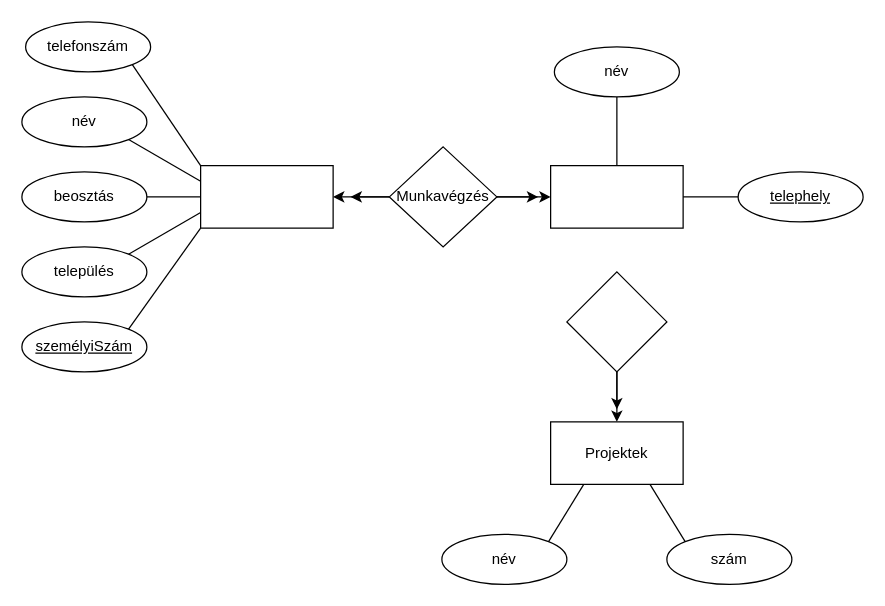
The diagram is 885 pixels wide and 606 high, and some of its shapes have lost their labels. Each missing label, with the box of its shape:
Dolgozó: (199, 164, 333, 228)
Kontroll: (566, 271, 667, 372)
Részleg: (549, 164, 683, 228)
